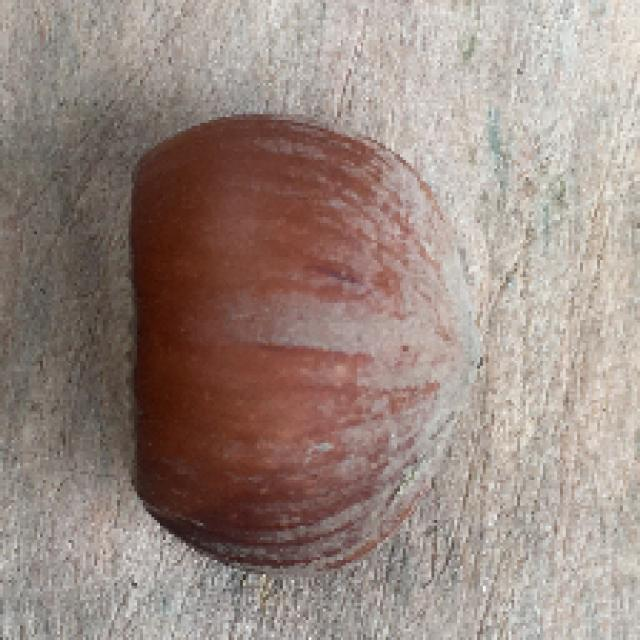qualityHazelnut: (101, 115, 495, 568)
